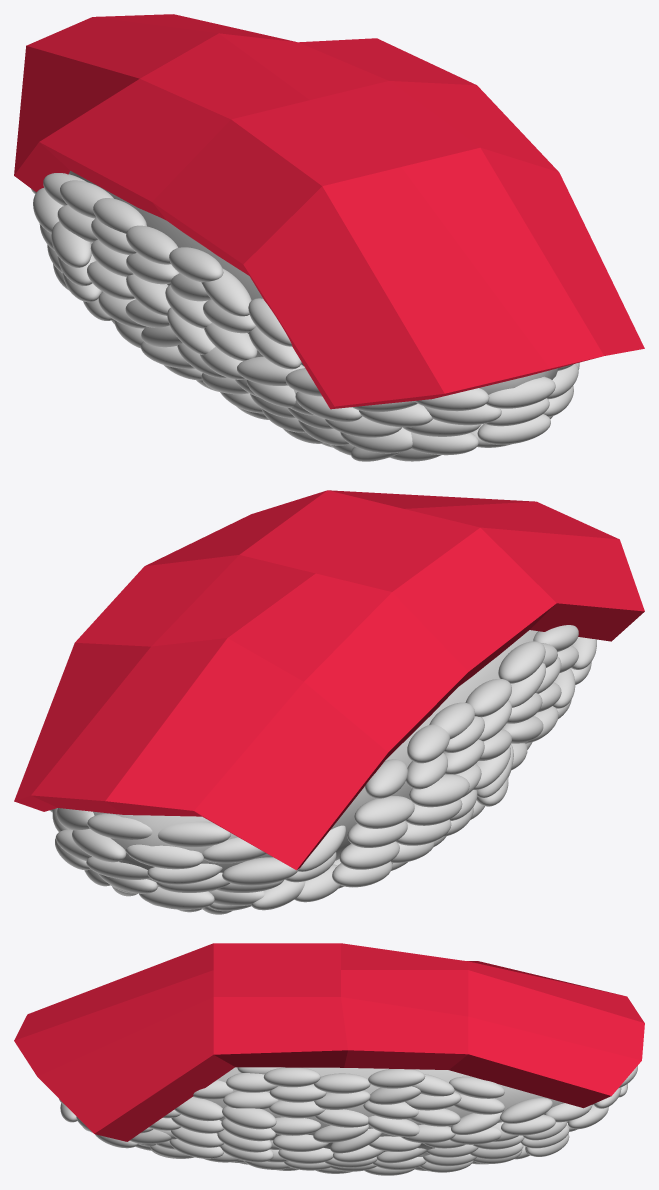
File: maguro2.fbx
3 views of the same model, one above another, from view 1: azimuth 30°, elevation 25°; view 2: azimuth 150°, elevation 25°; view 3: azimuth 270°, elevation 25° (orthographic). The views are drawn at different scales.
Parts seen in each view (by area): view 1: 平面, 球, 球.148, 球.134, 球.155, 球.149, 球.158, 球.146, 球.115, 球.157, 球.081, 球.140 (+29 smaller); view 2: 平面, 球, 球.173, 球.114, 球.172, 球.174, 球.148, 球.115, 球.167, 球.081, 球.149, 球.110 (+28 smaller); view 3: 平面, 球, 球.009, 球.016, 球.006, 球.007, 球.040, 球.018, 球.041, 球.073, 球.012, 球.001 (+40 smaller).
Boxes of the visible parts, left/top/right/bottom form: 平面: left=14, top=14, right=644, bottom=409; 球: left=69, top=171, right=557, bottom=394; 球.148: left=169, top=247, right=223, bottom=282; 球.134: left=201, top=268, right=251, bottom=316; 球.155: left=486, top=376, right=555, bottom=408; 球.149: left=126, top=225, right=178, bottom=264; 球.158: left=477, top=414, right=550, bottom=444; 球.146: left=93, top=198, right=146, bottom=233; 球.115: left=51, top=221, right=91, bottom=267; 球.157: left=411, top=432, right=478, bottom=455; 球.081: left=60, top=180, right=113, bottom=218; 球.140: left=204, top=323, right=257, bottom=360; 平面: left=14, top=490, right=644, bottom=870; 球: left=93, top=630, right=537, bottom=891; 球.173: left=222, top=857, right=298, bottom=885; 球.114: left=354, top=796, right=414, bottom=828; 球.172: left=158, top=821, right=230, bottom=847; 球.174: left=126, top=844, right=203, bottom=869; 球.148: left=498, top=641, right=545, bottom=683; 球.115: left=409, top=774, right=469, bottom=807; 球.167: left=87, top=814, right=152, bottom=839; 球.081: left=407, top=724, right=449, bottom=763; 球.149: left=465, top=678, right=511, bottom=717; 球.110: left=339, top=841, right=399, bottom=869; 平面: left=14, top=943, right=644, bottom=1141; 球: left=206, top=1067, right=593, bottom=1156; 球.009: left=263, top=1067, right=320, bottom=1087; 球.016: left=500, top=1098, right=552, bottom=1123; 球.006: left=314, top=1073, right=370, bottom=1093; 球.007: left=368, top=1069, right=425, bottom=1088; 球.040: left=222, top=1106, right=276, bottom=1129; 球.018: left=449, top=1076, right=504, bottom=1098; 球.041: left=174, top=1097, right=223, bottom=1121; 球.073: left=223, top=1091, right=278, bottom=1109; 球.012: left=368, top=1115, right=420, bottom=1137; 球.001: left=314, top=1090, right=370, bottom=1109.
Size of the model in its own units: 242 by 165 by 495.
